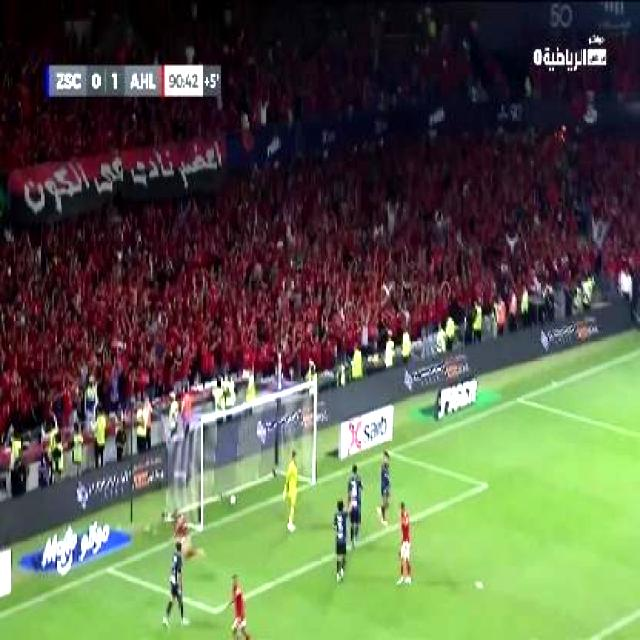bigarea_top_outter: (512, 389, 528, 409)
smallarea_bottom_inner: (208, 597, 223, 623)
smallarea_bottom_outter: (98, 556, 117, 582)
smallarea_top_inner: (475, 474, 491, 495)
smallarea_top_outter: (383, 443, 395, 460)
